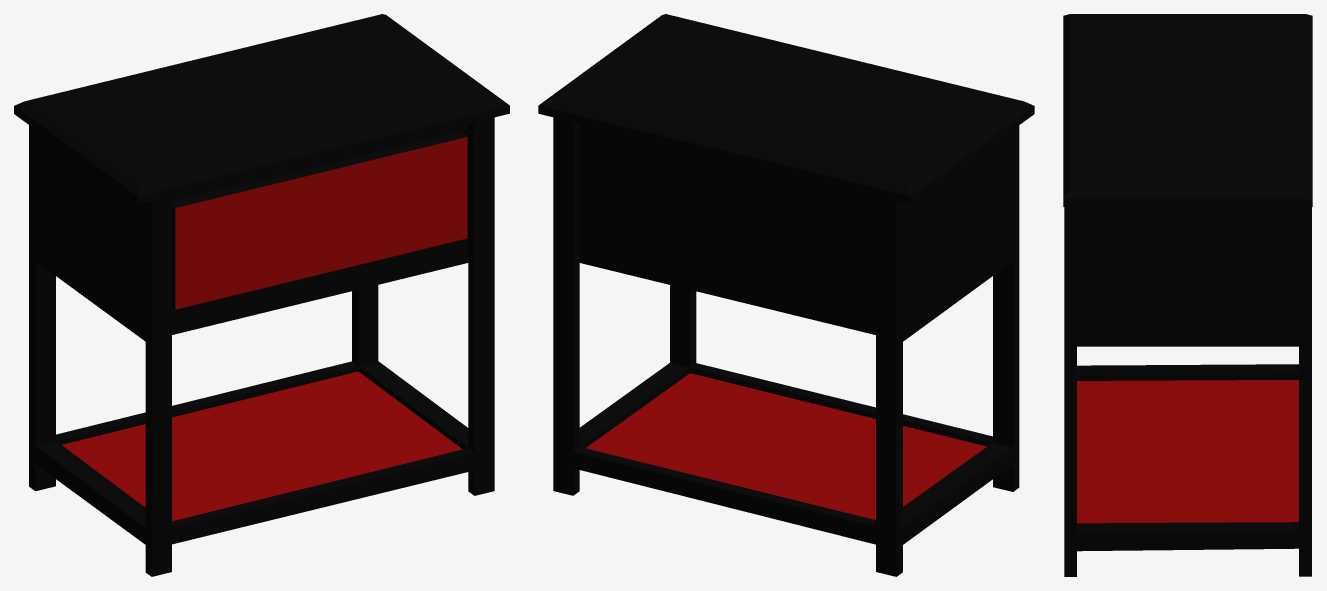
Rendered from LittleDrawer.FBX.
3 views of the same model, side by side, from view 1: azimuth 30°, elevation 25°; view 2: azimuth 150°, elevation 25°; view 3: azimuth 270°, elevation 25° (orthographic).
Visible parts, largest first — view 1: Box009; view 2: Box009; view 3: Box009.
Boxes of the visible parts, x1,y1,x2,y2 form: Box009: (14, 14, 509, 576); Box009: (538, 14, 1034, 576); Box009: (1063, 14, 1312, 576).
Size of the model in its own units: 29.64 by 29.65 by 17.05.
